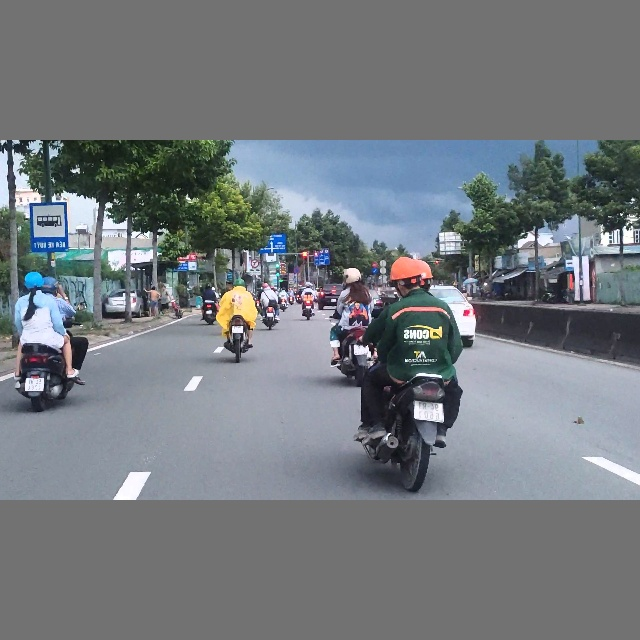I.434a: (30, 201, 67, 253)
P.102: (372, 262, 378, 268)
P.137: (251, 259, 259, 268)
R.302a: (372, 268, 378, 273)
R.415a: (314, 253, 330, 265)
